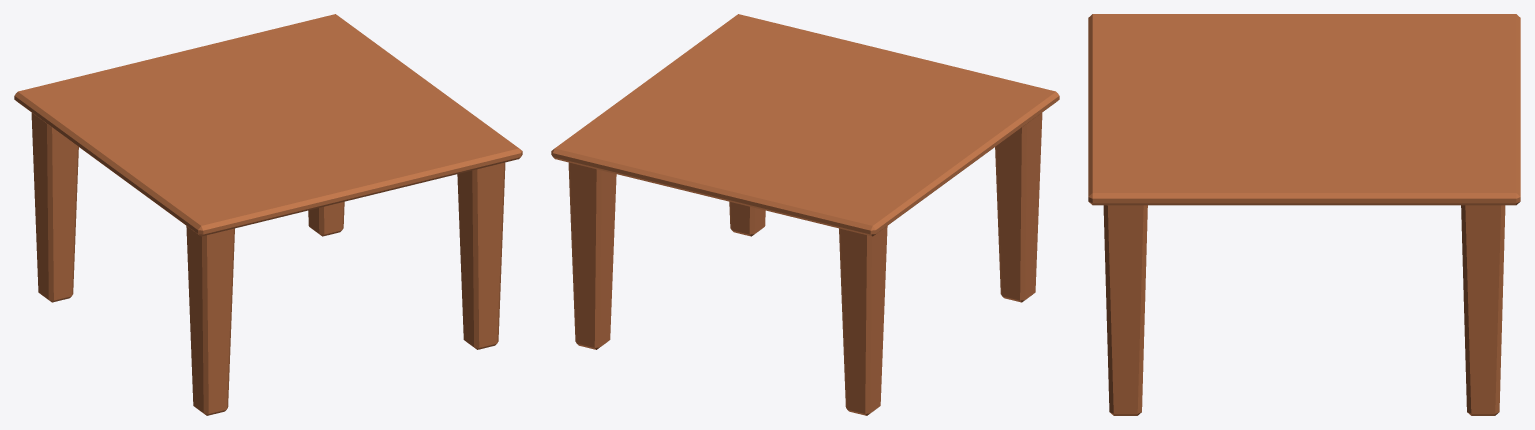
File: MESA2.fbx
The picture shows the model from 3 angles, left to right: view 1: azimuth 30°, elevation 25°; view 2: azimuth 150°, elevation 25°; view 3: azimuth 270°, elevation 25°; orthographic projection. The views are drawn at different scales.
Visible parts, largest first — view 1: Mesa 2; view 2: Mesa 2; view 3: Mesa 2.
Part boxes in pixels (<box>): Mesa 2: <box>14,14,522,415</box>; Mesa 2: <box>551,14,1059,415</box>; Mesa 2: <box>1088,14,1520,415</box>.
Size of the model in its own units: 104 by 61.51 by 104.
